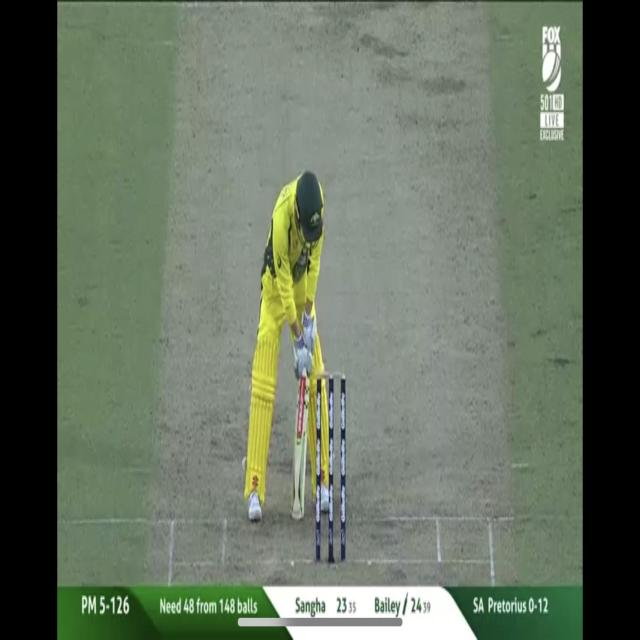stump: (316, 370, 348, 565)
